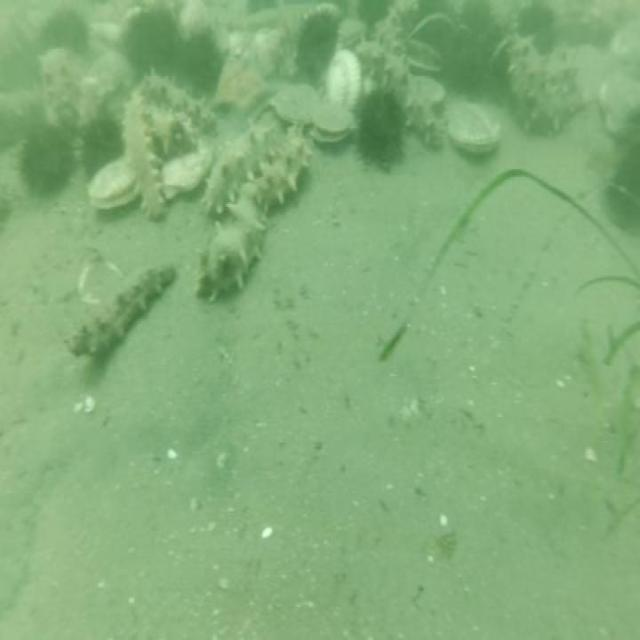echinus: (15, 120, 77, 202), (352, 85, 405, 171), (175, 25, 228, 101), (124, 6, 178, 76), (602, 140, 640, 236), (294, 6, 342, 79), (76, 109, 126, 175), (38, 5, 91, 55), (516, 0, 556, 57), (460, 0, 493, 36), (357, 0, 391, 28), (416, 0, 449, 25)
holothurian: (194, 130, 308, 308), (63, 260, 177, 372), (356, 38, 446, 153), (198, 115, 284, 220), (504, 35, 583, 137), (120, 87, 168, 224), (145, 71, 217, 130), (141, 101, 201, 152), (42, 48, 76, 124)
scallop: (447, 103, 504, 161), (561, 44, 615, 104), (160, 145, 213, 204), (596, 71, 640, 141), (86, 155, 140, 212), (270, 81, 321, 128), (324, 48, 362, 110), (308, 109, 354, 147), (609, 14, 640, 70), (411, 71, 448, 114)
